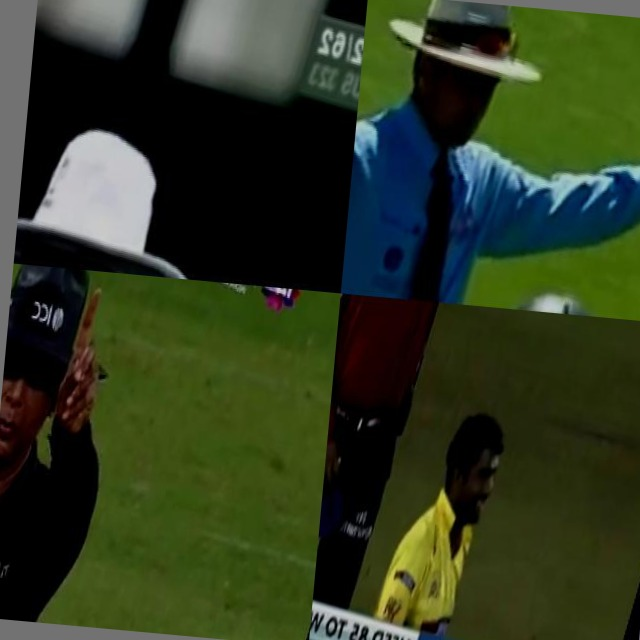No_Action: (14, 72, 311, 289)
Out: (312, 294, 519, 630), (0, 264, 187, 633)
Wide: (341, 0, 640, 323)
